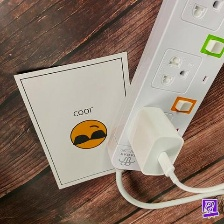three_eye_plug: (103, 0, 223, 180)
